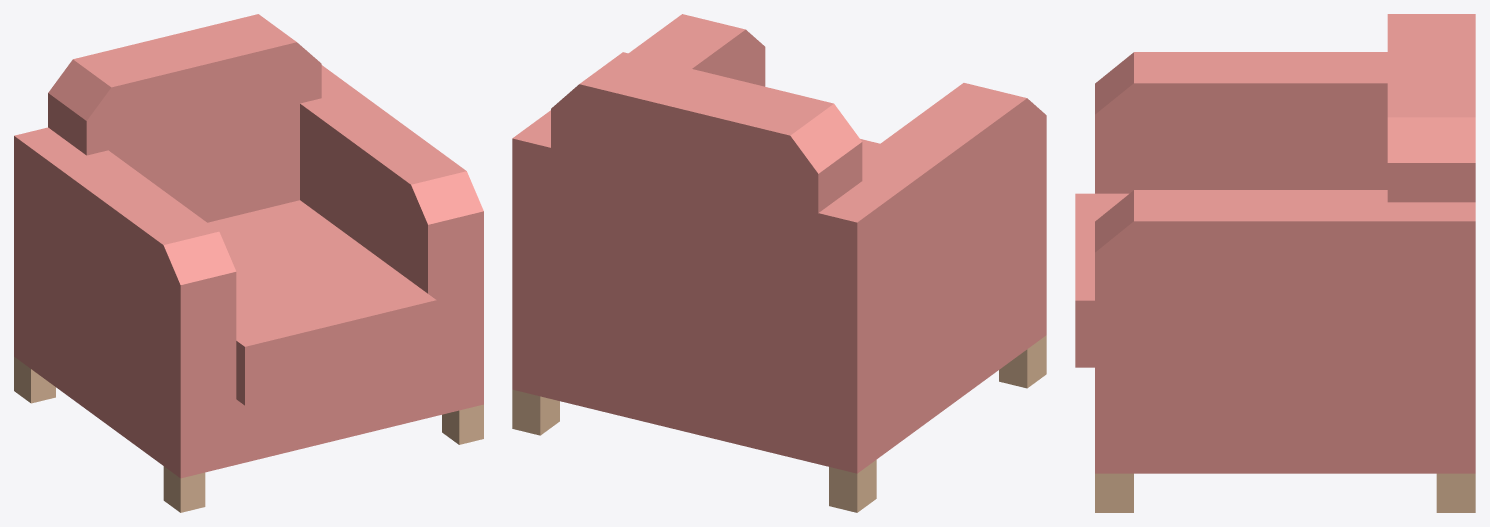
Rendered from kn-lounge-chair.glb.
The picture shows the model from 3 angles, left to right: view 1: azimuth 30°, elevation 25°; view 2: azimuth 150°, elevation 25°; view 3: azimuth 270°, elevation 25°; orthographic projection. The views are drawn at different scales.
Parts seen in each view (by area): view 1: loungeChair(Clone); view 2: loungeChair(Clone); view 3: loungeChair(Clone).
Boxes of the visible parts, box(x1,y1,x2,y2) form: loungeChair(Clone): box(14, 14, 483, 512); loungeChair(Clone): box(512, 14, 1046, 512); loungeChair(Clone): box(1075, 14, 1475, 512).
Size of the model in its own units: 1 by 1 by 1.
